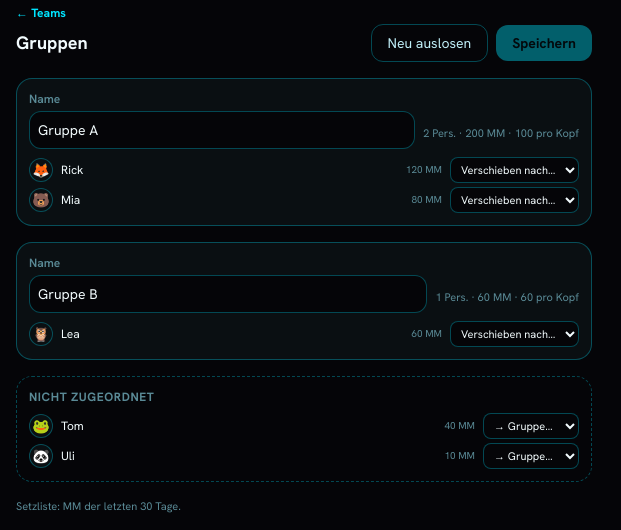
Test case: GroupEditor › keeps "Speichern" disabled while nothing was edited
Check: the field showing "Gruppe A" in the row of "200" is shown, box [29,111,415,149]
Check: the button "Speichern" is disabled, box [496,25,592,61]
Select "→ Gruppe B" in the dropdown named "Tom verschieben" at (531,426), box [483,413,579,439]
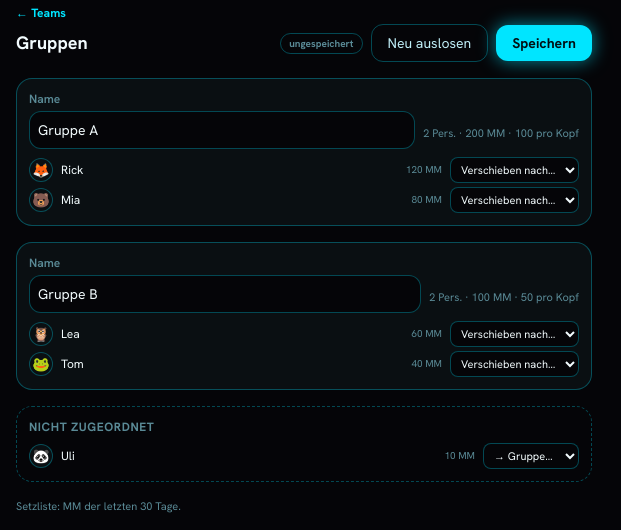
Check: the button "Speichern" is enabled, box [496,25,592,61]
